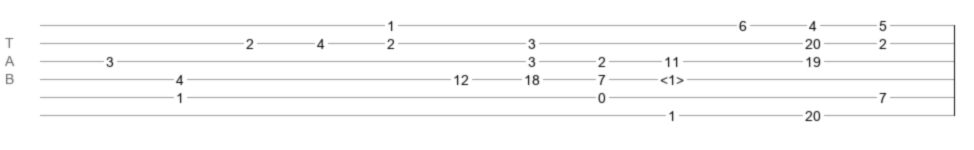0: (598, 90, 606, 100)
1: (176, 90, 184, 100), (387, 18, 395, 28), (668, 108, 676, 118)
11: (664, 54, 680, 64)
12: (453, 72, 469, 82)
18: (524, 72, 540, 82)
19: (805, 54, 821, 64)
2: (246, 36, 254, 46), (387, 36, 395, 46), (598, 54, 606, 64), (879, 36, 887, 46)
20: (805, 36, 821, 46), (805, 108, 821, 118)
3: (106, 54, 114, 64), (528, 36, 536, 46), (528, 54, 536, 64)
4: (176, 72, 184, 82), (317, 36, 325, 46), (809, 18, 817, 28)
5: (879, 18, 887, 28)
6: (739, 18, 747, 28)
7: (598, 72, 606, 82), (879, 90, 887, 100)
harmonic: (660, 72, 684, 82)
